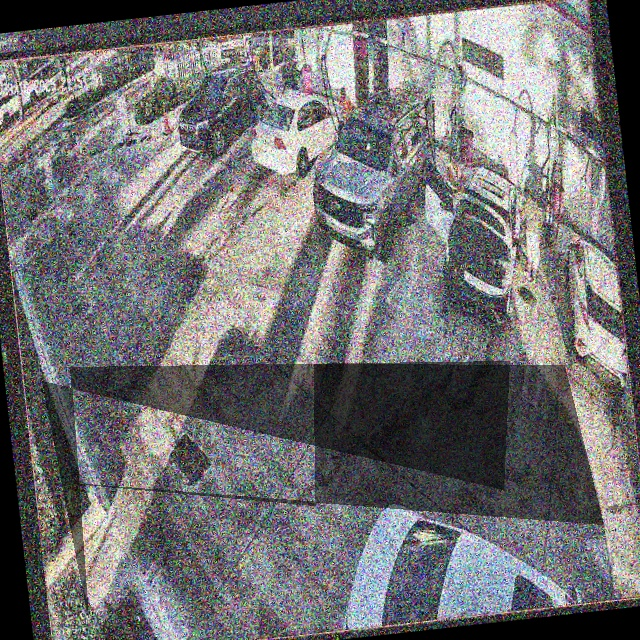Car: (303, 85, 443, 269), (426, 151, 537, 329), (246, 84, 352, 181), (173, 62, 269, 155)
